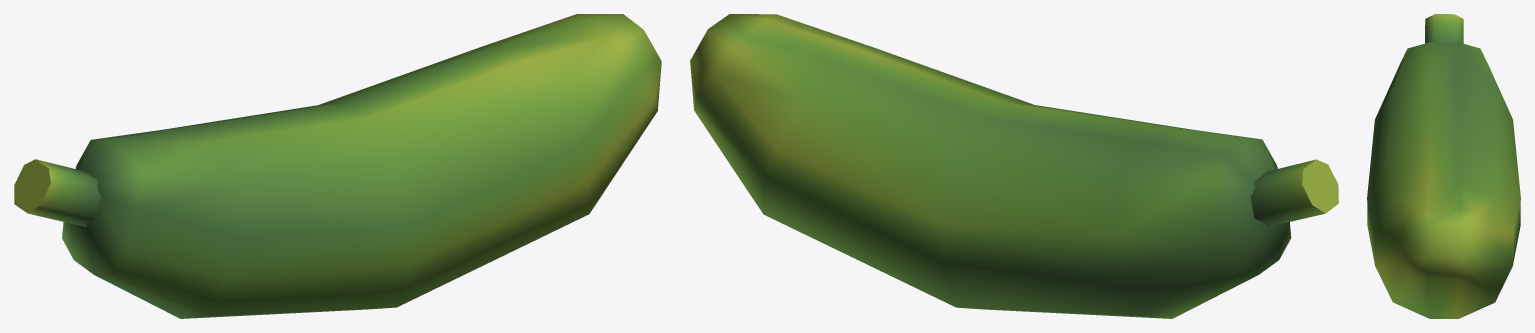
File: cucumber_1.fbx
3 renders of one model, left to right at view 1: azimuth 30°, elevation 25°; view 2: azimuth 150°, elevation 25°; view 3: azimuth 270°, elevation 25°, orthographic. The views are drawn at different scales.
Parts seen in each view (by area): view 1: cucumber_1; view 2: cucumber_1; view 3: cucumber_1.
Part boxes in pixels (x1,y1,x2,y2): cucumber_1: (14,14,661,318); cucumber_1: (690,14,1338,318); cucumber_1: (1367,14,1520,318).
Bounding box in the file's own units: 52.41 × 17.1 × 15.28.
